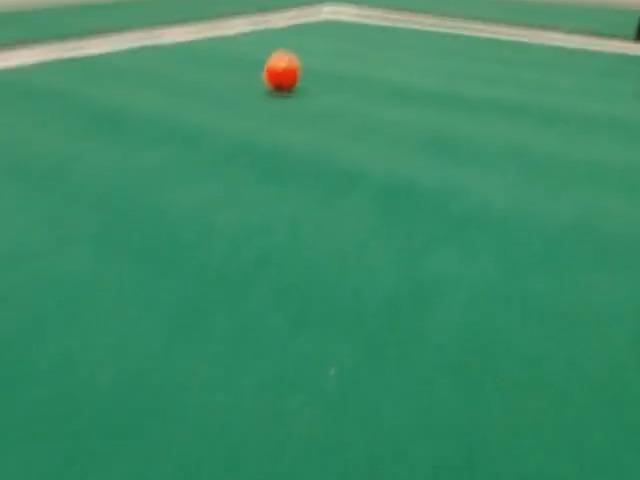Ball: (263, 50, 299, 92)
